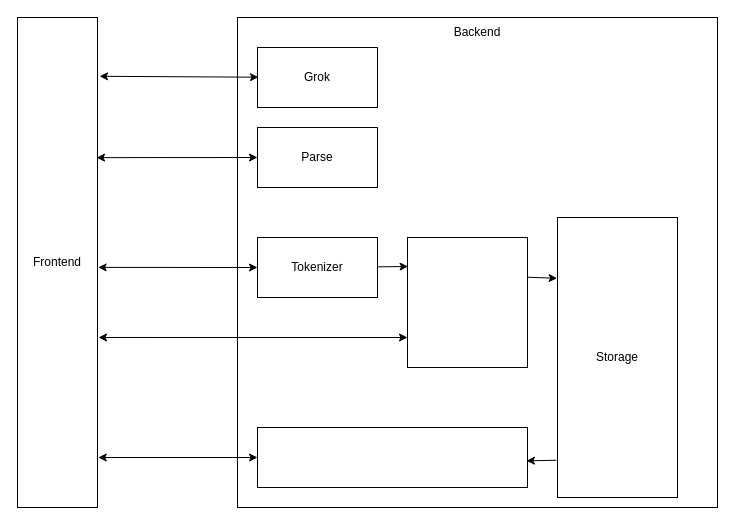
Some shapes in this 735 by 525 pixel diagram are drawn without their labels. The shapes that lost their labels are listed below. From the top down, each one's centre as x and y in pixels, then its label:
the point at 467,302: Ingestion
the point at 392,457: Query
